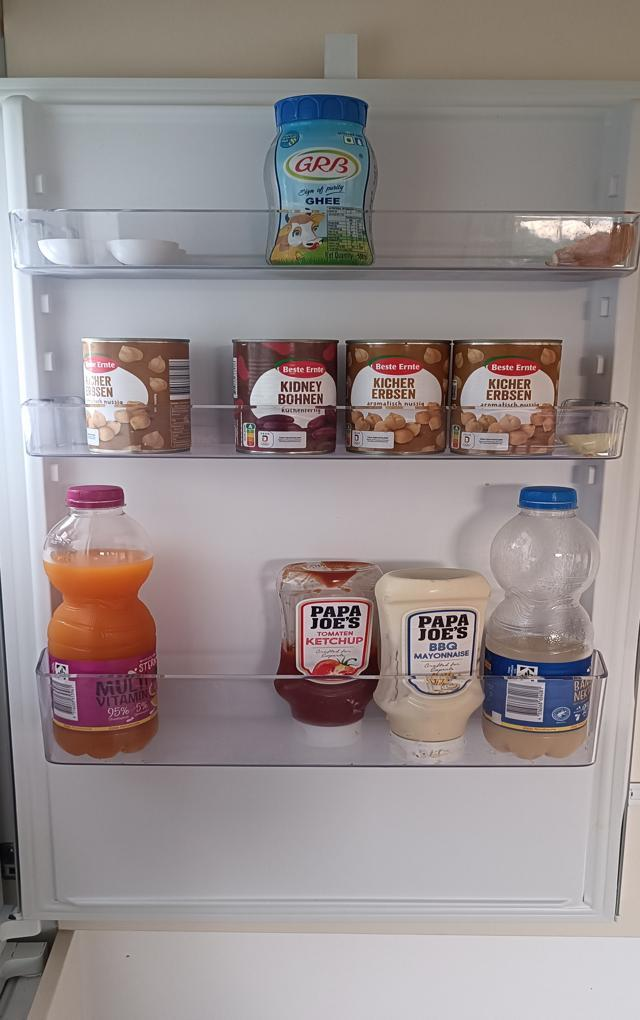bananajuice: (487, 480, 601, 758)
chickpeas: (81, 337, 194, 457), (452, 337, 561, 457), (345, 338, 449, 454)
ghee: (262, 91, 380, 279)
kidneybeans: (232, 338, 339, 459)
mayoniasie: (374, 564, 485, 767)
orangejuice: (45, 484, 161, 751)
tomatoketchup: (271, 554, 383, 742)
